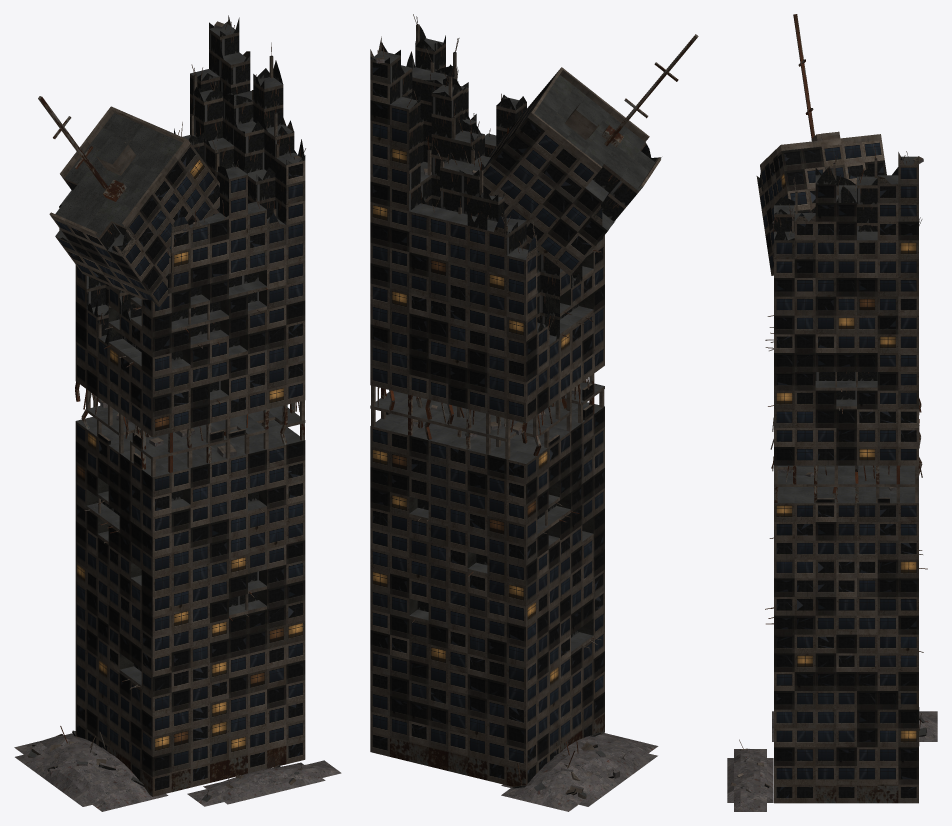
File: Building_TallBroken.fbx
The picture shows the model from 3 angles, left to right: view 1: azimuth 30°, elevation 25°; view 2: azimuth 150°, elevation 25°; view 3: azimuth 270°, elevation 25°; orthographic projection. The views are drawn at different scales.
Visible parts, largest first — view 1: Building_TallBroken; view 2: Building_TallBroken; view 3: Building_TallBroken.
Part boxes in pixels (x1,y1,x2,y2): Building_TallBroken: (14,15,341,811); Building_TallBroken: (370,14,698,811); Building_TallBroken: (727,14,937,811).
Bounding box in the file's own units: 177 × 450 × 127.
Materials: 1 (1 with a texture image).
